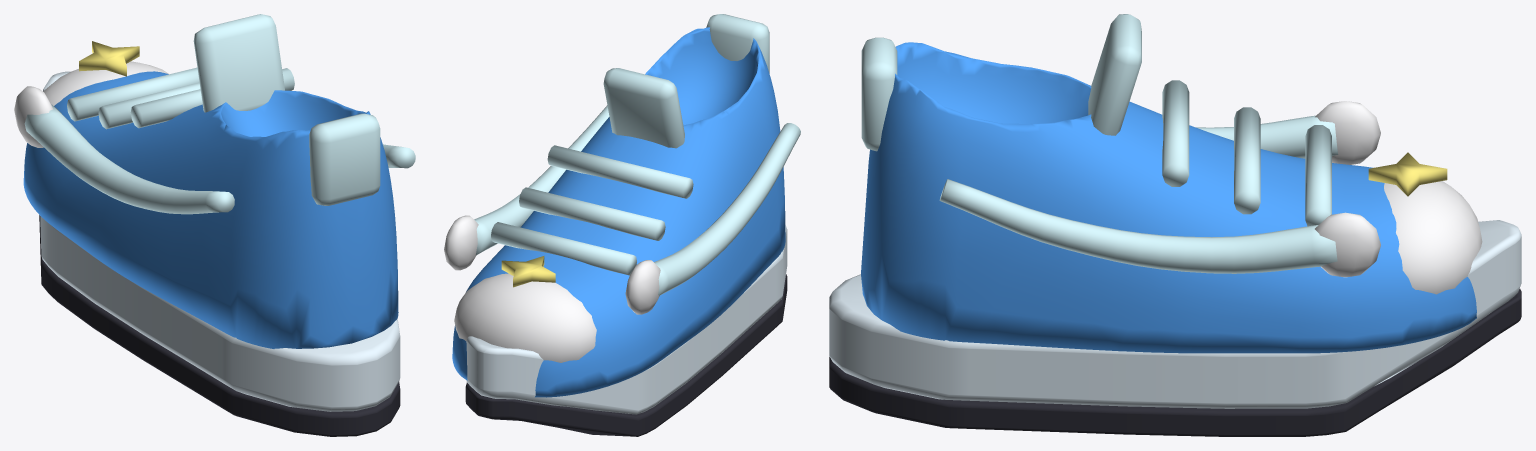
Rendered from shoe_cometrunners.fbx.
3 renders of one model, left to right at view 1: azimuth 30°, elevation 25°; view 2: azimuth 150°, elevation 25°; view 3: azimuth 270°, elevation 25°, orthographic. The views are drawn at different scales.
Visible parts, largest first — view 1: shoe_cometrunners; view 2: shoe_cometrunners; view 3: shoe_cometrunners.
Part boxes in pixels (x1=…): shoe_cometrunners: x1=14, y1=14, x2=415, y2=436; shoe_cometrunners: x1=444, y1=14, x2=800, y2=436; shoe_cometrunners: x1=829, y1=14, x2=1521, y2=436.
Size of the model in its own units: 1.69 by 2.19 by 3.88.
Materials: 1 (1 with a texture image).
